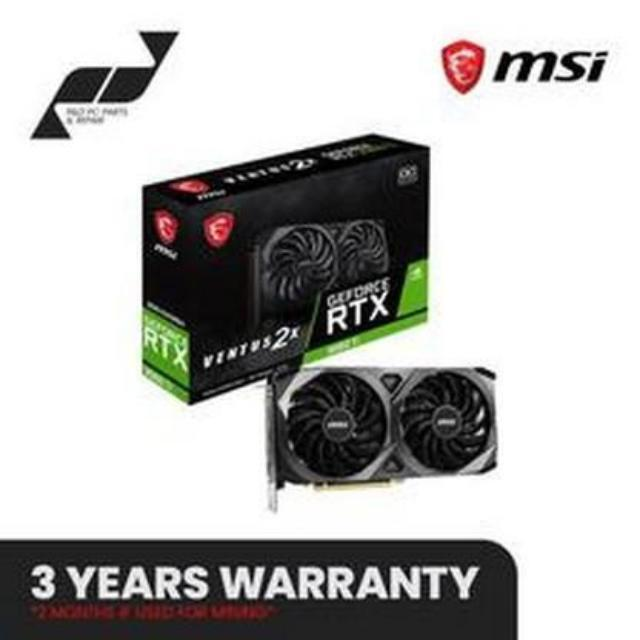GPU: (261, 363, 507, 503)
